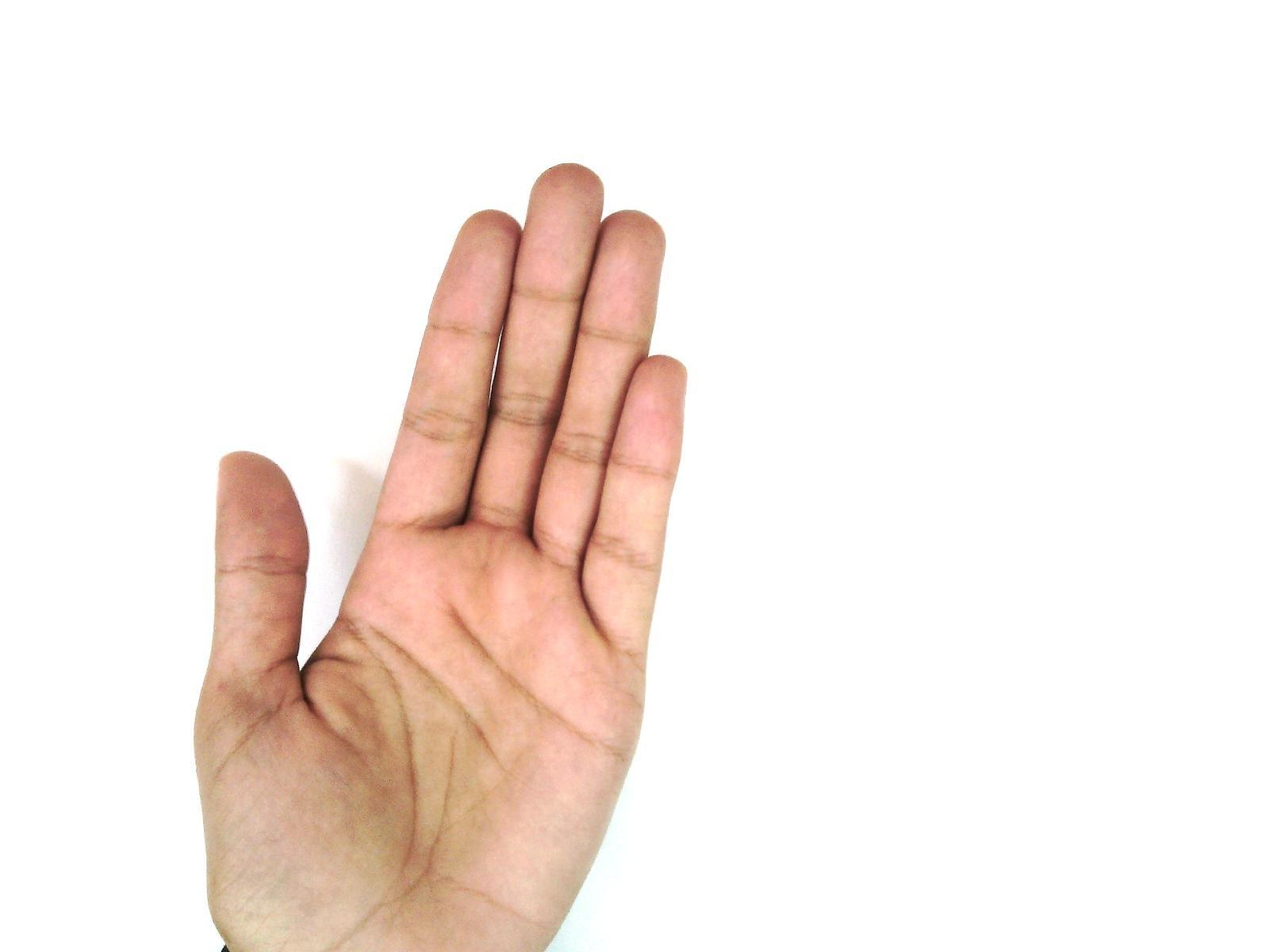open_palm: (191, 162, 691, 951)
